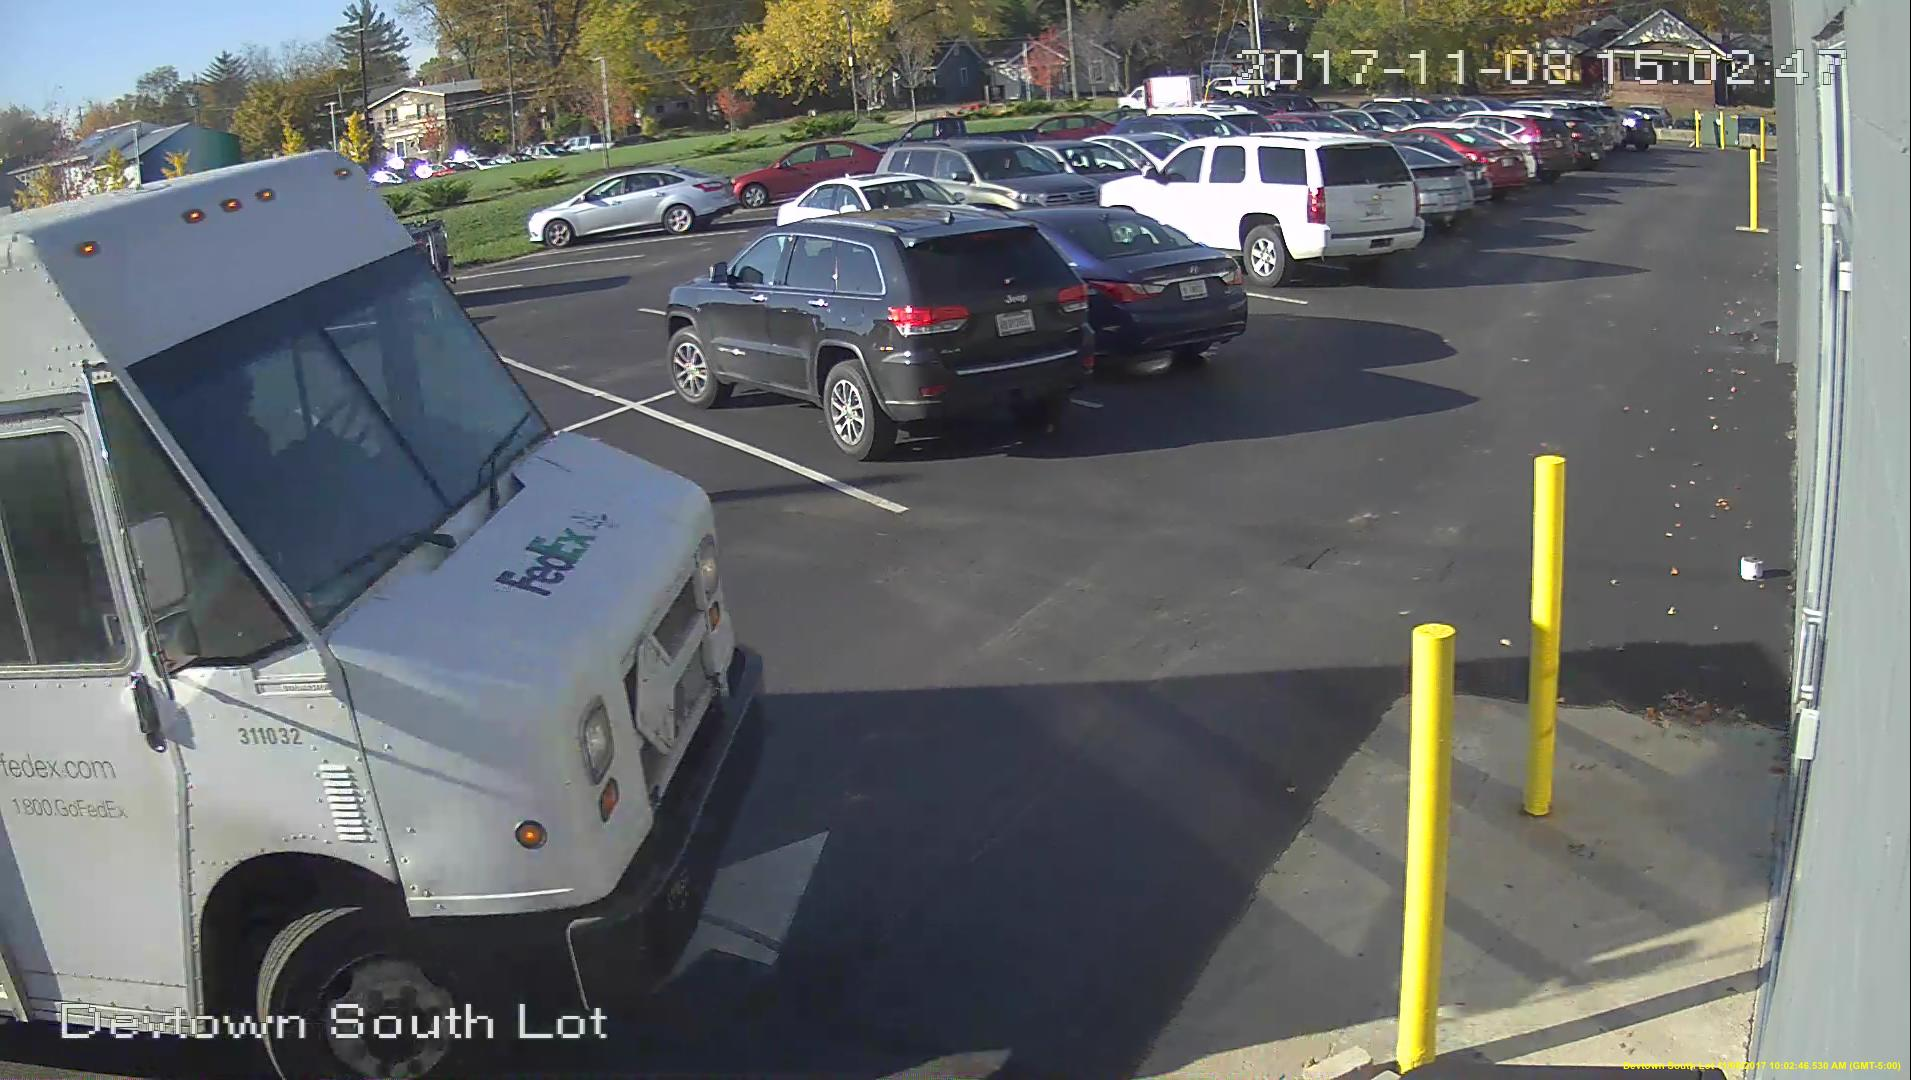fedex_truck: (1, 146, 774, 1045)
